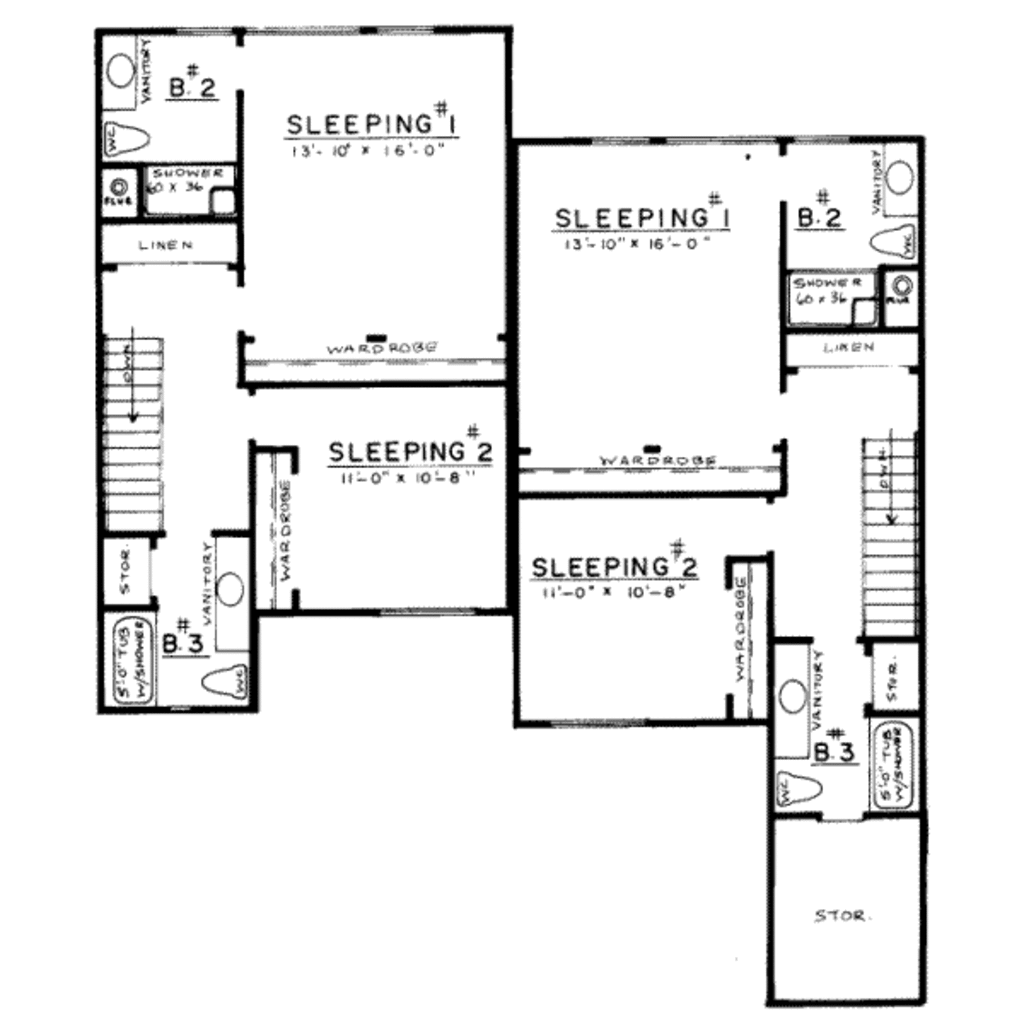large_sink: (179, 646, 247, 728), (869, 222, 950, 271), (776, 760, 831, 816), (103, 112, 161, 155)
small_sink: (87, 35, 157, 116), (201, 528, 253, 636), (879, 144, 931, 228), (779, 652, 814, 738)
stairs: (93, 336, 169, 533), (861, 443, 928, 649)
tub: (92, 616, 160, 717), (863, 714, 923, 806)
window: (531, 714, 671, 738), (374, 603, 477, 625)
